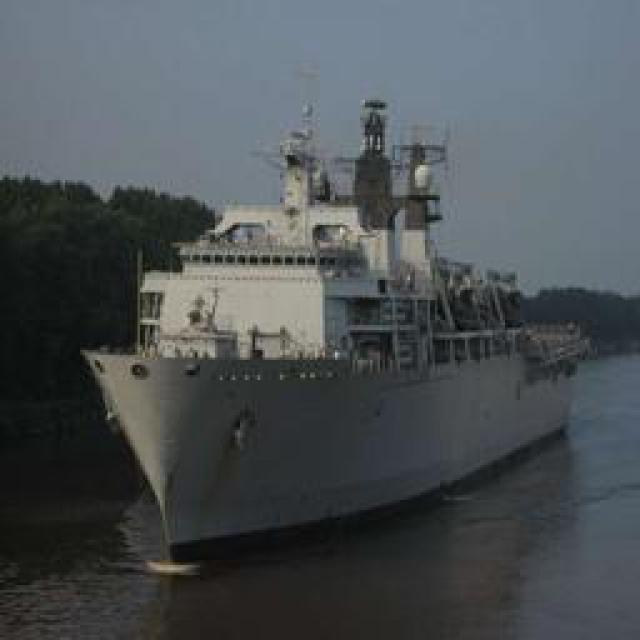Ship: (96, 72, 589, 560)
